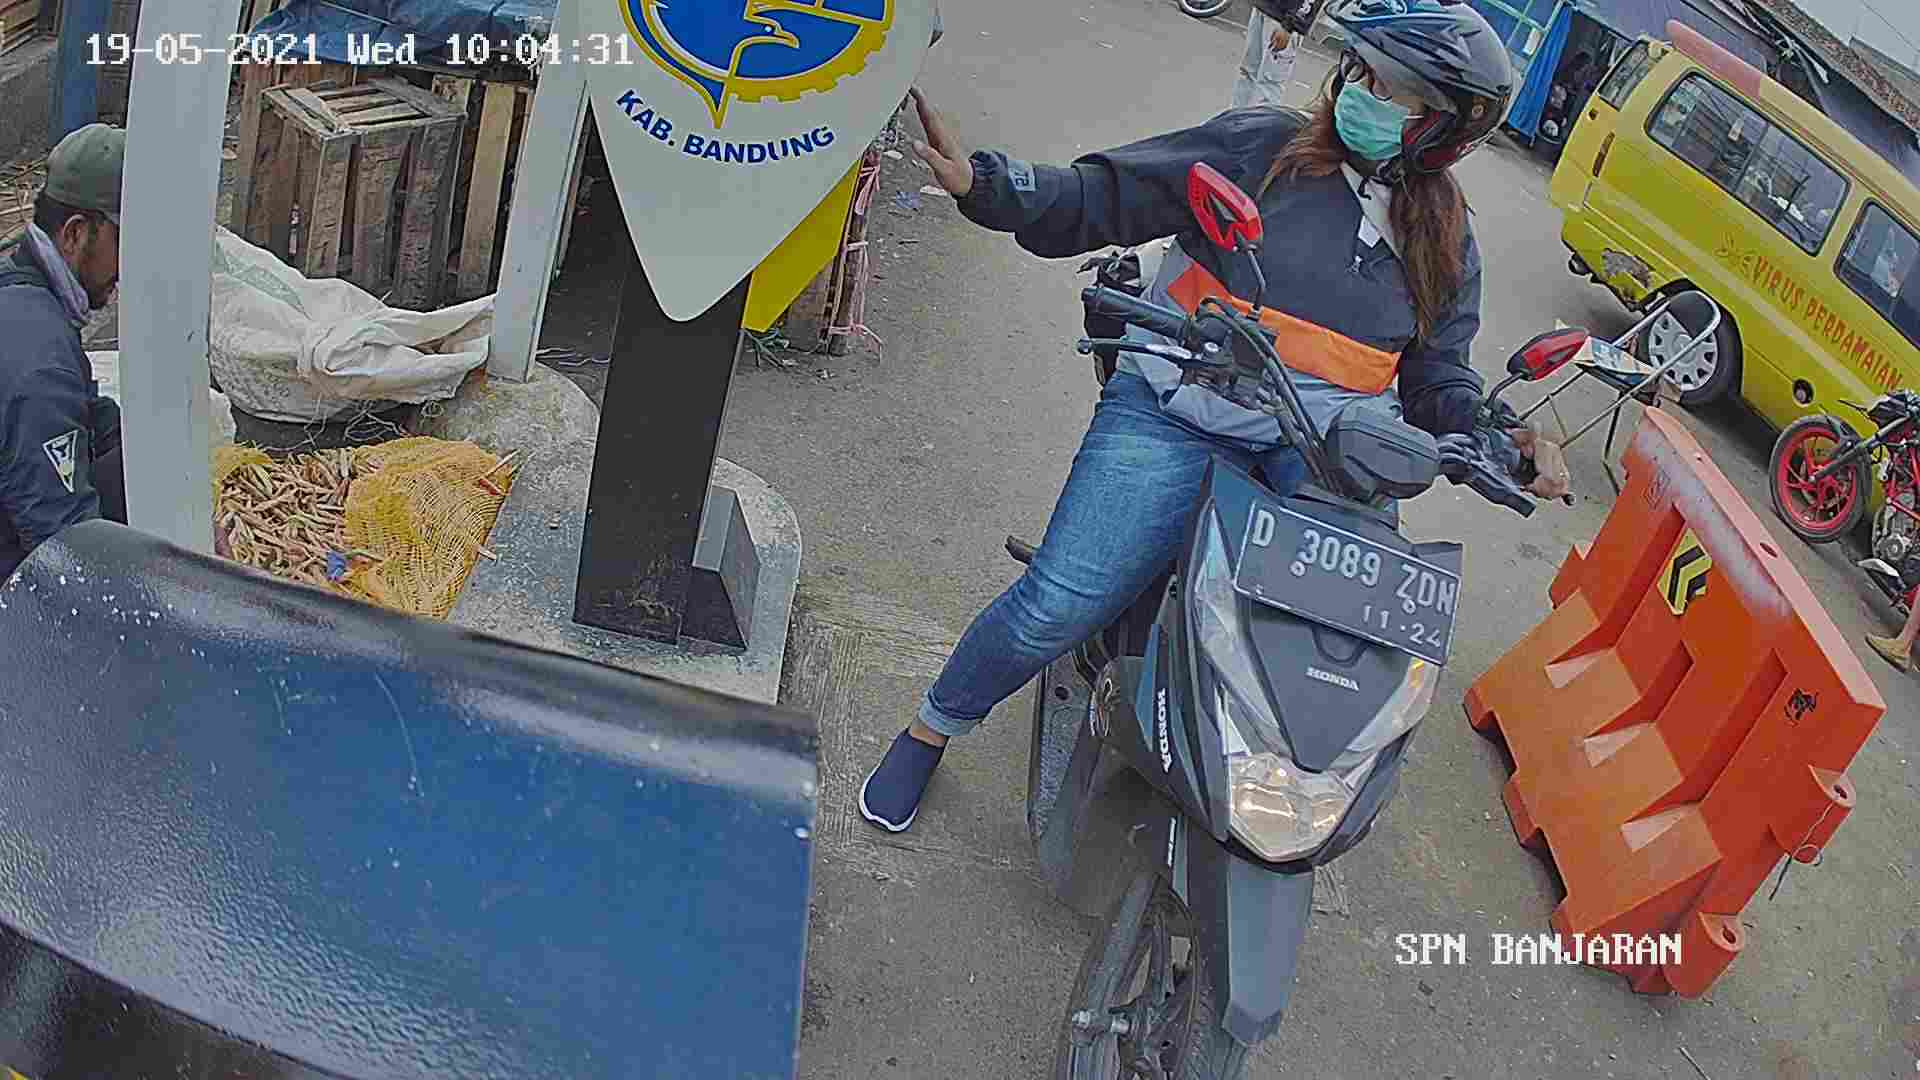motor: (1038, 290, 1509, 1080)
